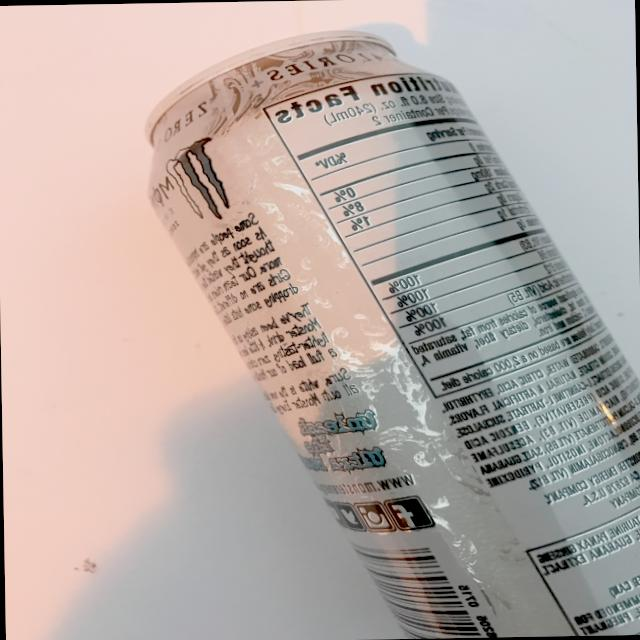Metal: (117, 8, 640, 640)
